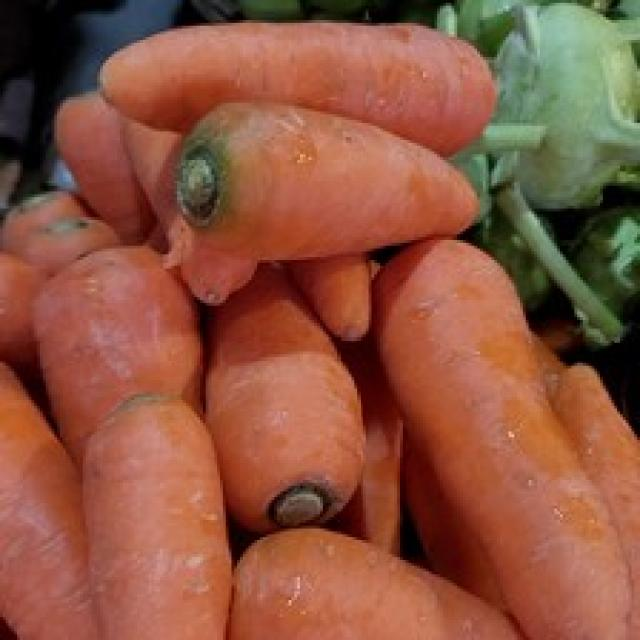Fresh_Carrot: (374, 245, 605, 640), (240, 525, 516, 640), (87, 413, 221, 640)
